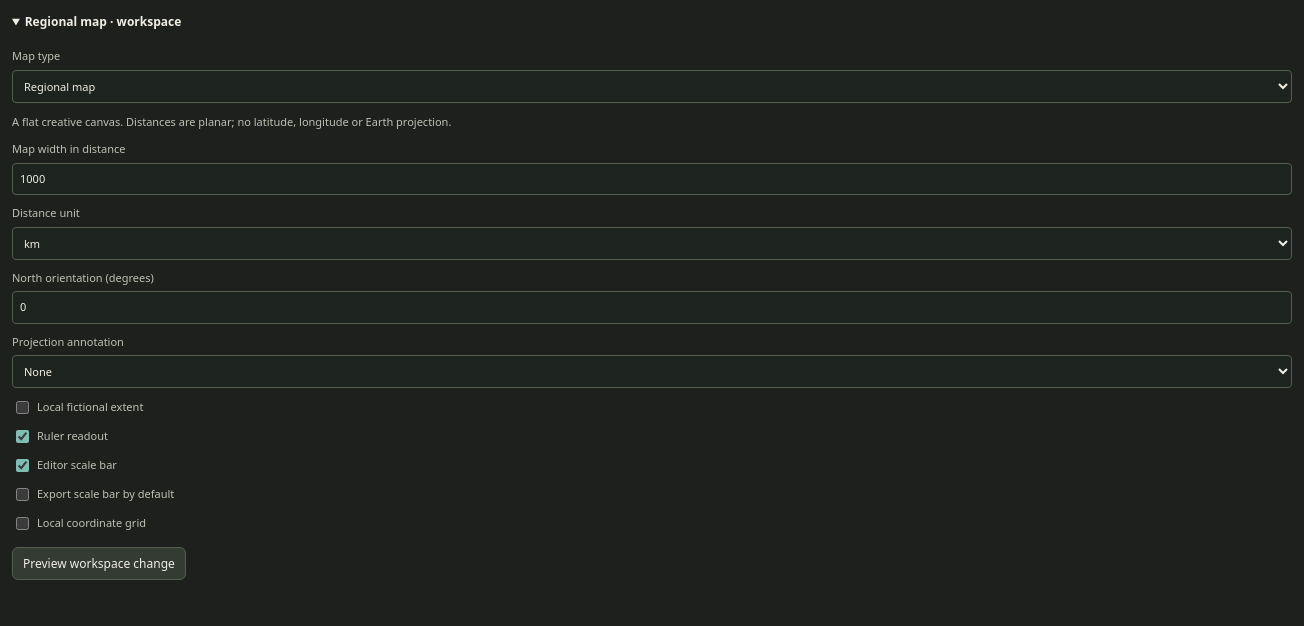
Test: keeps an invalid numeric draft editable and reports errors without crashing or changing the map
The width and height of the screenshot is (1304, 626).
Step 1. Clear the number field labelled "Map width in distance" → (652, 179), box [12,162,1292,195]
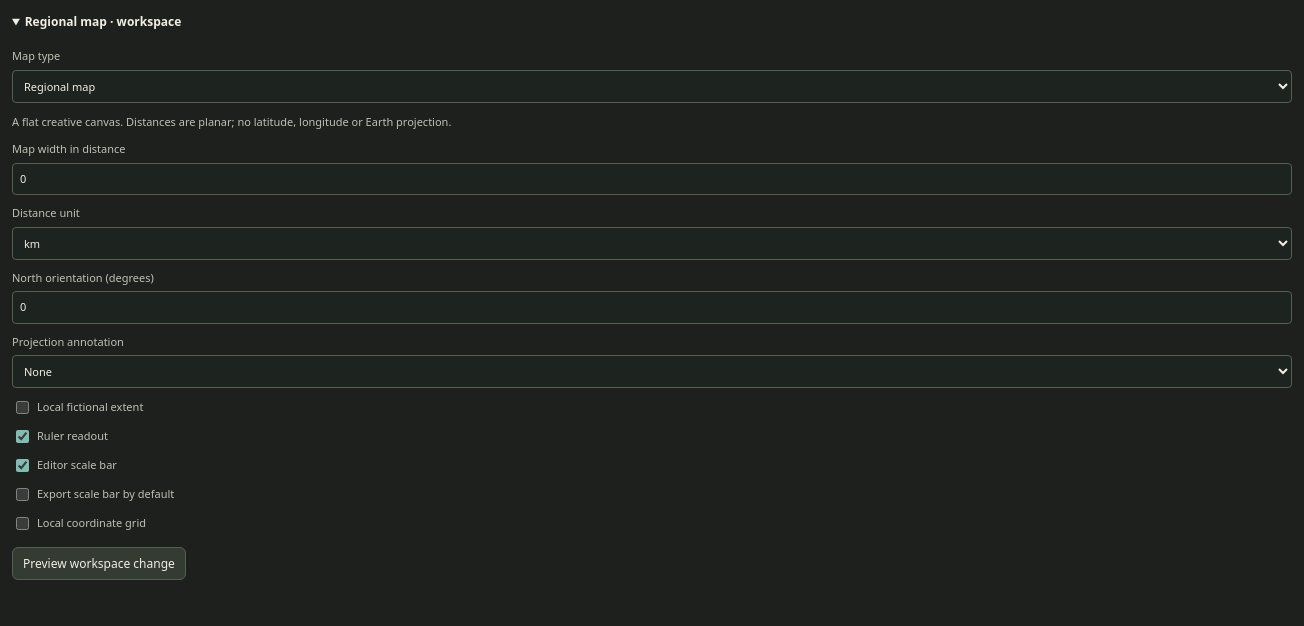
Step 2. Click the button "Preview workspace change" → (99, 564), box [12,547,186,580]
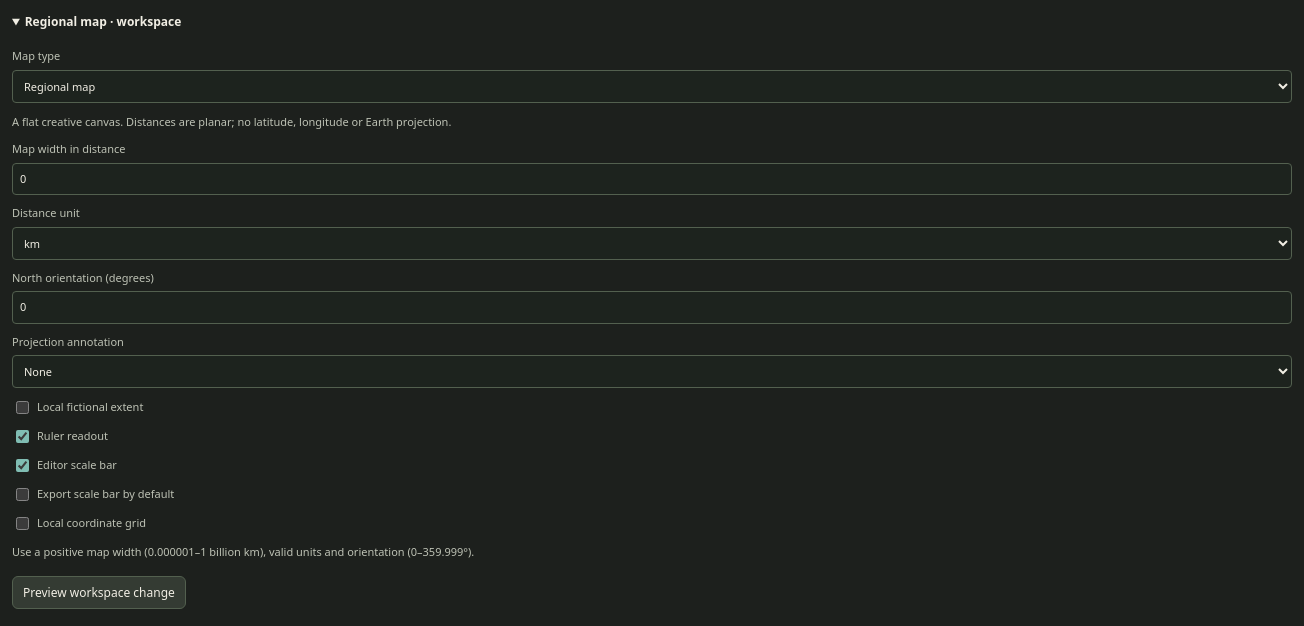
Result: the message shows "positive" at [12,544,474,559]
